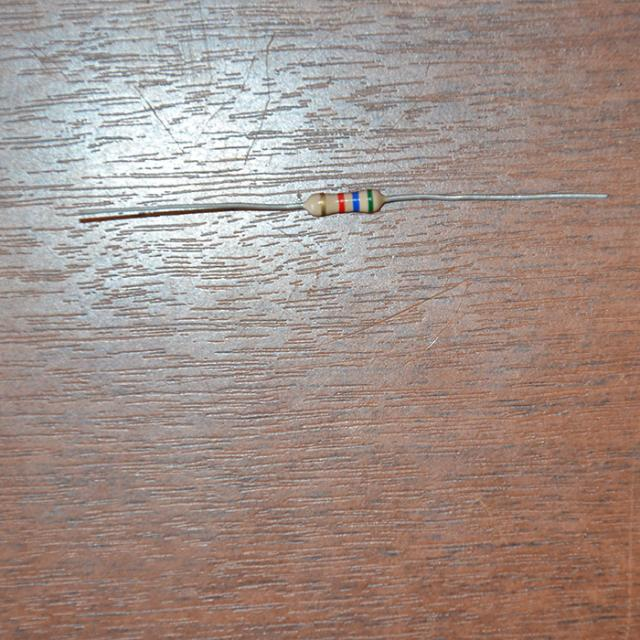blue: (352, 192, 358, 210)
gold: (320, 192, 325, 215)
green: (367, 188, 372, 209)
red: (337, 192, 344, 210)
resistor: (299, 185, 387, 222)
